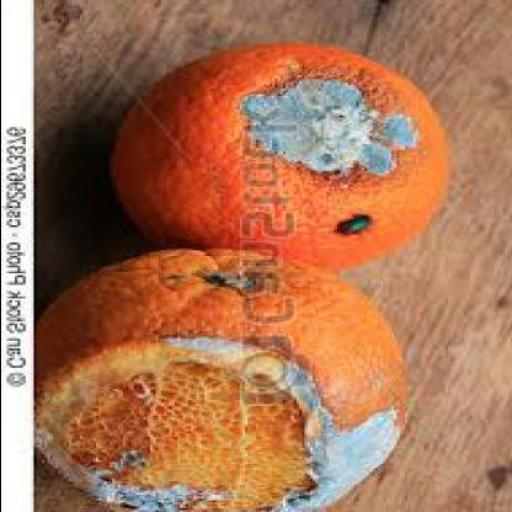biodegradable: (35, 250, 409, 512), (108, 44, 456, 274)
